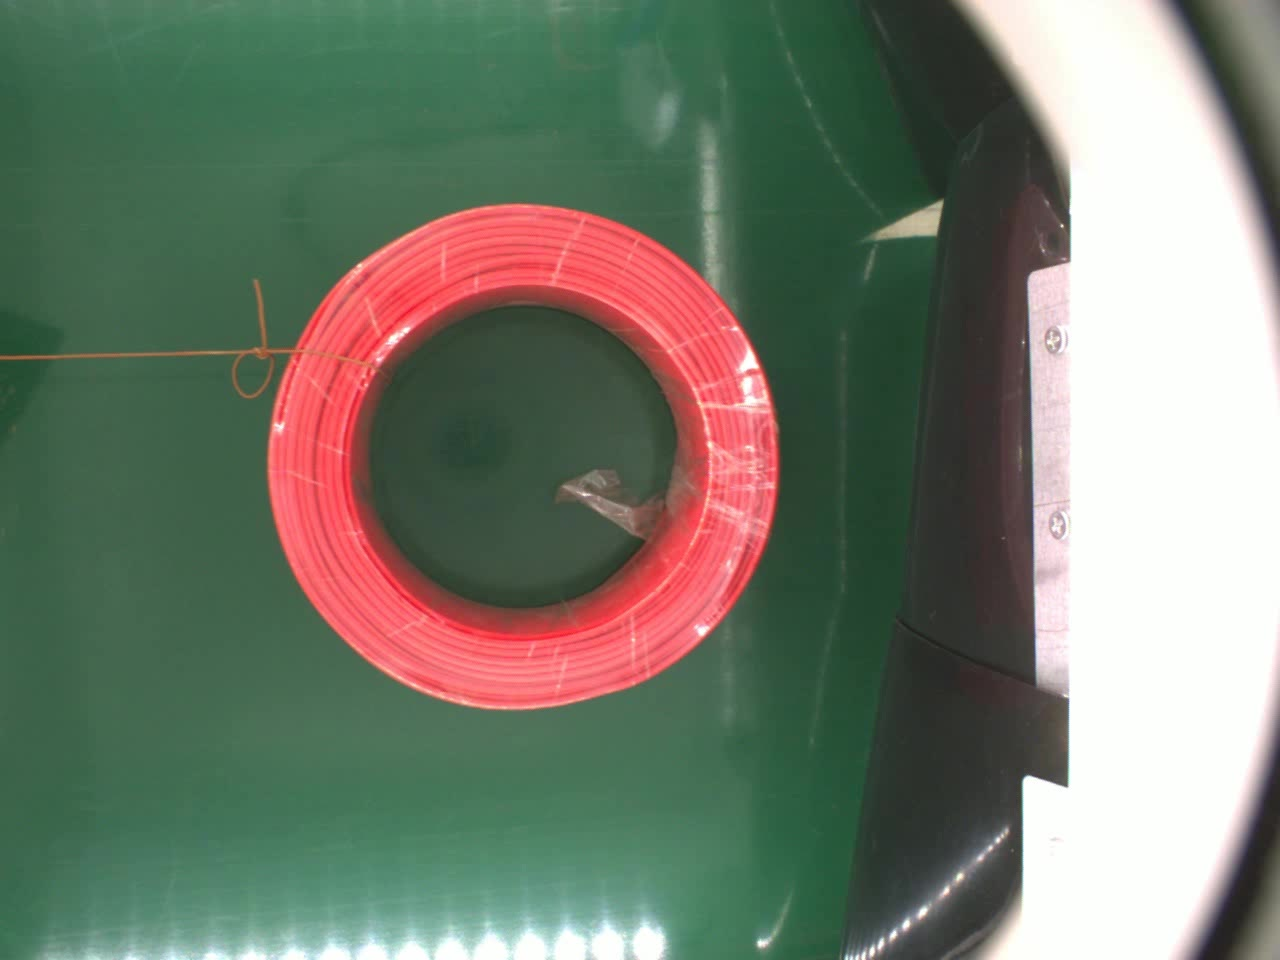red: (262, 197, 779, 712)
